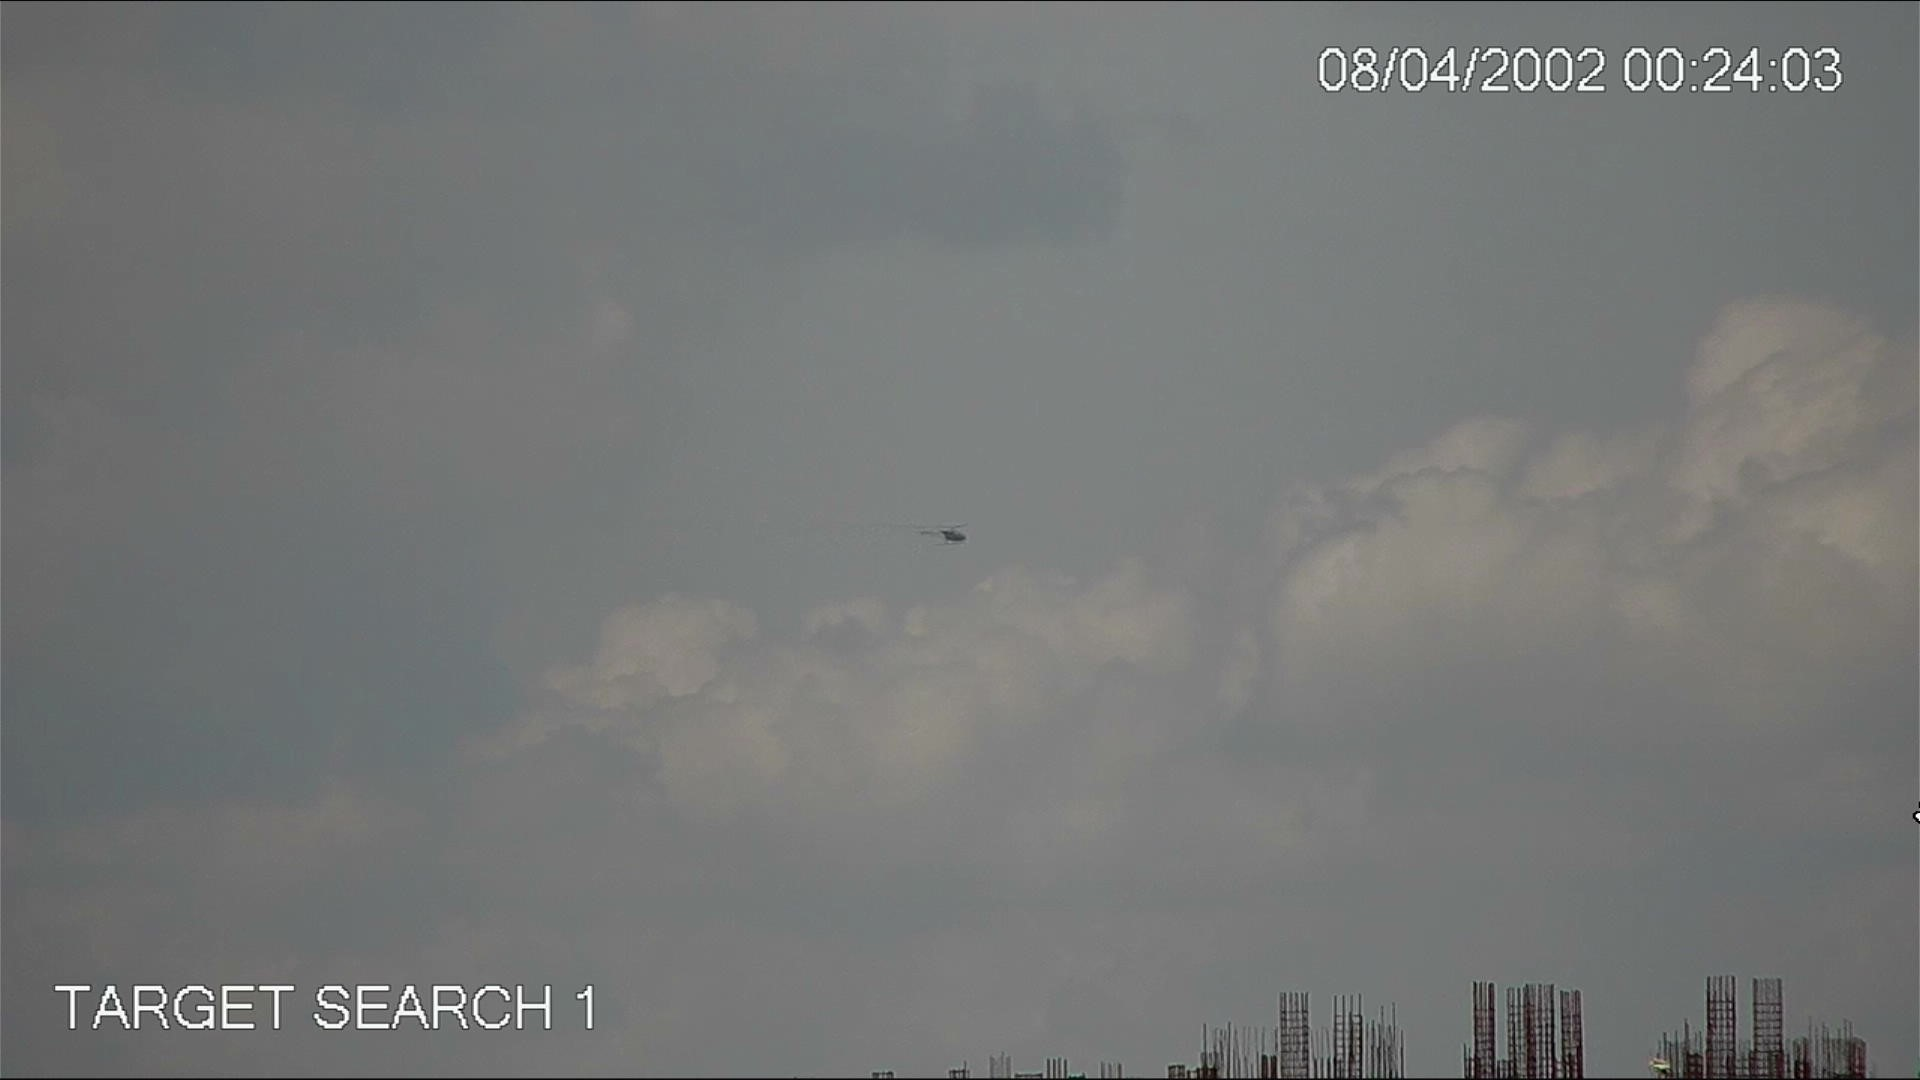SU_30: (907, 517, 972, 549)
